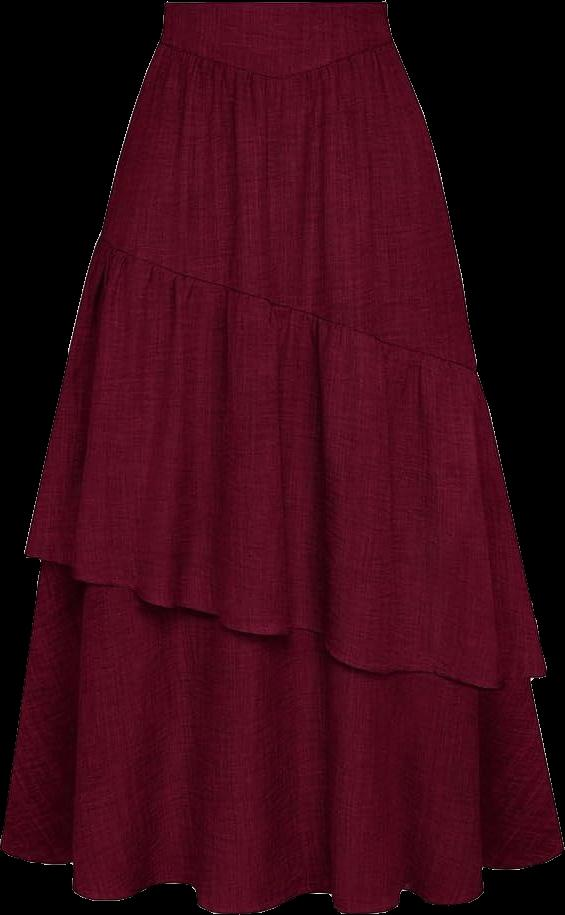Hemline: (17, 547, 549, 694), (0, 840, 564, 914)
Waistline: (95, 229, 479, 376), (155, 35, 395, 86), (164, 0, 389, 10)
